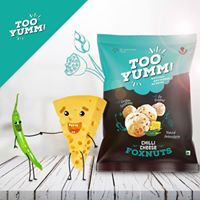plastic: (97, 32, 196, 170)
tooyumm: (117, 52, 174, 81), (8, 13, 49, 43)
wrapper: (103, 36, 196, 168)
